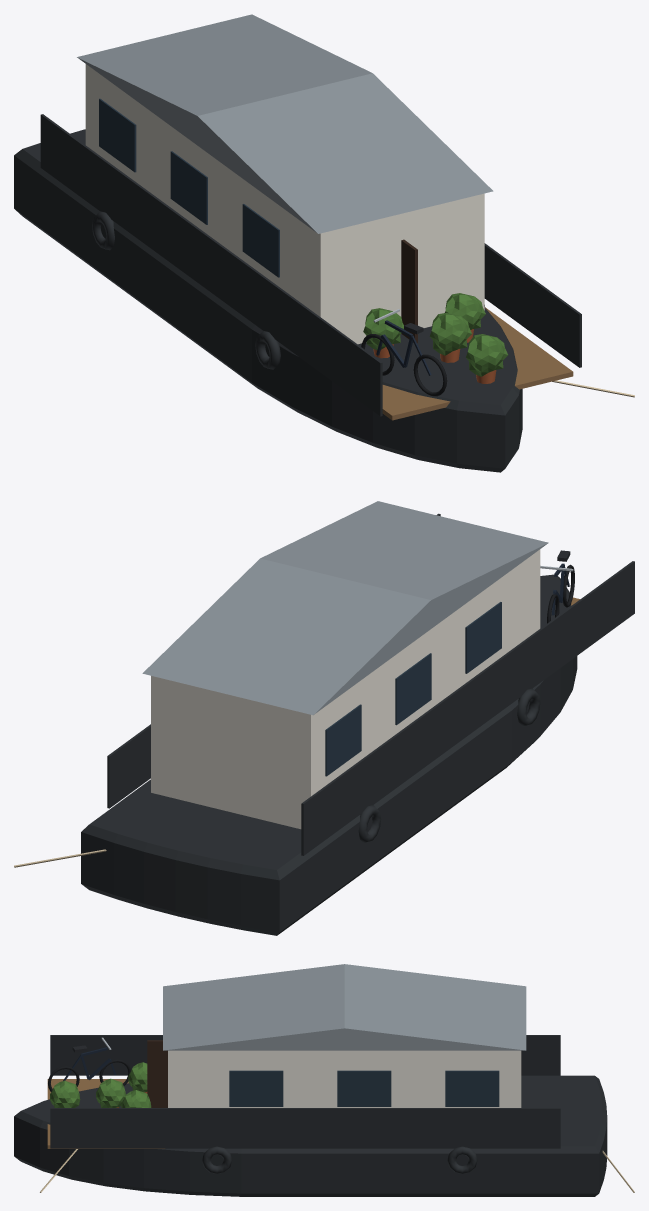
File: boat-house.obj
The picture shows the model from 3 angles, top to bottom: view 1: azimuth 30°, elevation 25°; view 2: azimuth 150°, elevation 25°; view 3: azimuth 270°, elevation 25°; orthographic projection. The views are drawn at different scales.
Parts seen in each view (by area): view 1: part4, part1, part3, part12.nocast, part13.nocast, part2.nocast, part5.nocast, part6.nocast, part7.nocast, part11.nocast, part17, part15 (+4 smaller); view 2: part4, part1, part3, part12.nocast, part13.nocast, part6.nocast, part5.nocast, part7.nocast, part32.nocast, part31.nocast; view 3: part1, part4, part13.nocast, part3, part12.nocast, part8.nocast, part9.nocast, part10.nocast, part11.nocast, part15, part17, part2.nocast (+4 smaller).
Boxes of the visible parts, x1,y1,x2,y2 form: part4: (77,14,493,233); part1: (14,129,522,472); part3: (85,64,484,344); part12.nocast: (40,114,382,416); part13.nocast: (484,243,581,367); part2.nocast: (382,307,573,420); part5.nocast: (99,98,136,172); part6.nocast: (170,151,207,224); part7.nocast: (242,204,279,277); part11.nocast: (401,239,417,343); part17: (466,334,507,376); part15: (429,313,471,355); part4: (142,501,548,715); part1: (81,574,577,935); part3: (151,549,540,829); part12.nocast: (301,561,634,855); part13.nocast: (107,513,440,808); part6.nocast: (395,653,431,725); part5.nocast: (325,704,361,776); part7.nocast: (465,602,501,673); part32.nocast: (517,688,540,726); part31.nocast: (358,805,381,842); part1: (14,1075,607,1196); part4: (163,964,526,1050); part13.nocast: (50,1108,560,1148); part3: (168,1050,521,1107); part12.nocast: (50,1035,560,1075); part8.nocast: (445,1070,499,1106); part9.nocast: (337,1070,391,1106); part10.nocast: (229,1070,283,1106); part11.nocast: (147,1040,167,1107); part15: (96,1078,125,1107); part17: (50,1080,80,1107); part2.nocast: (47,1079,164,1148).
Bounding box in the file's own units: 4.49 × 3.72 × 12.65.
